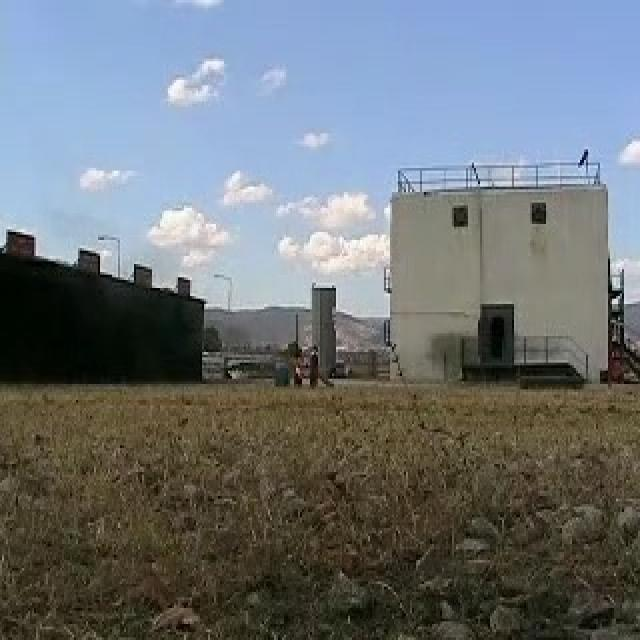fire: (290, 356, 313, 382)
smoke: (240, 329, 290, 357)
